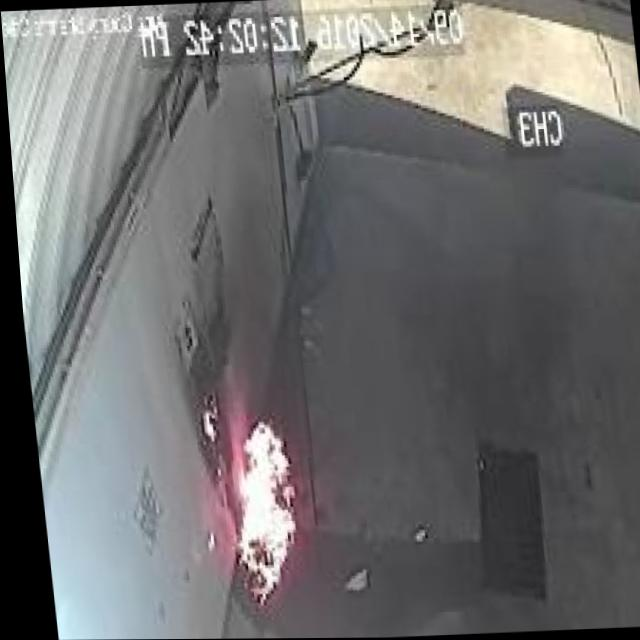fire: (190, 408, 311, 607)
